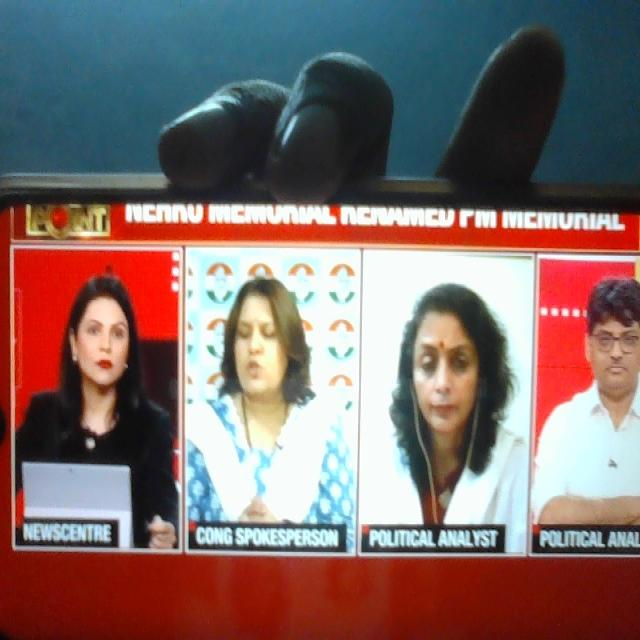fake: (391, 267, 500, 472)
